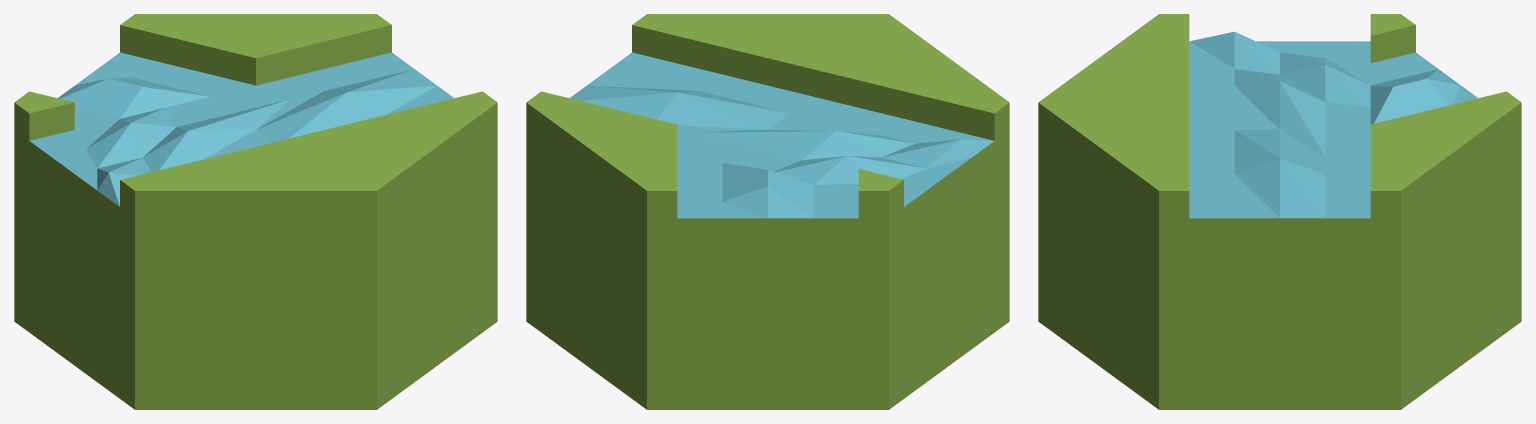
File: river5.fbx
The picture shows the model from 3 angles, left to right: view 1: azimuth 30°, elevation 25°; view 2: azimuth 150°, elevation 25°; view 3: azimuth 270°, elevation 25°; orthographic projection.
Parts seen in each view (by area): view 1: Cylinder; view 2: Cylinder; view 3: Cylinder.
Boxes of the visible parts, box(x1,y1,x2,y2) form: Cylinder: box(14, 14, 497, 409); Cylinder: box(526, 14, 1009, 409); Cylinder: box(1038, 14, 1521, 409).
Bounding box in the file's own units: 1.73 × 1 × 2.
